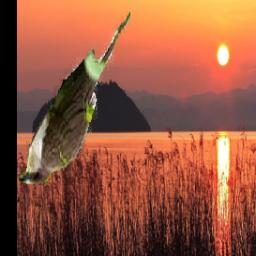Cuckoo: (18, 12, 130, 185)
